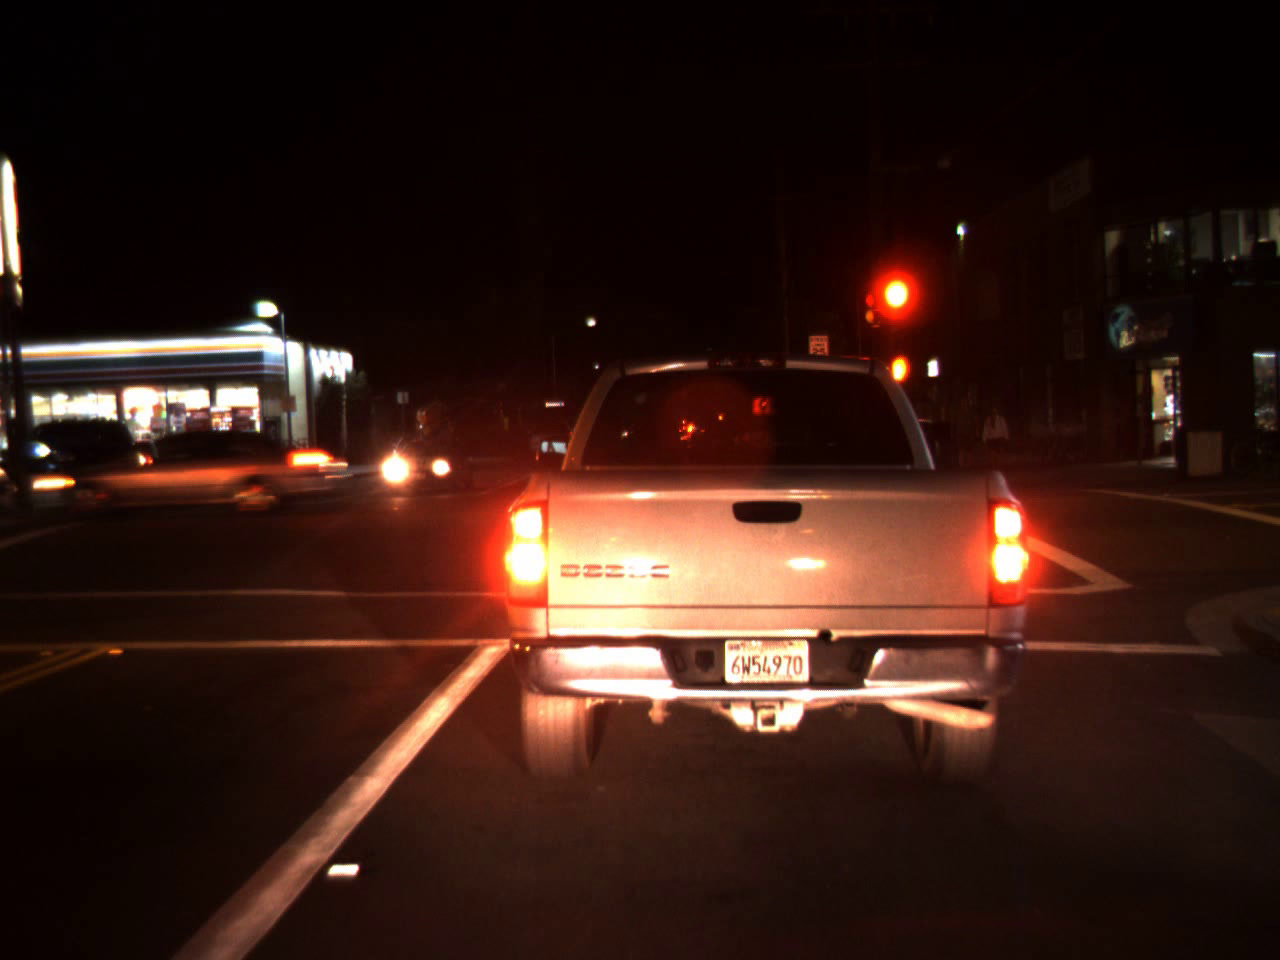stop: (875, 273, 912, 348)
